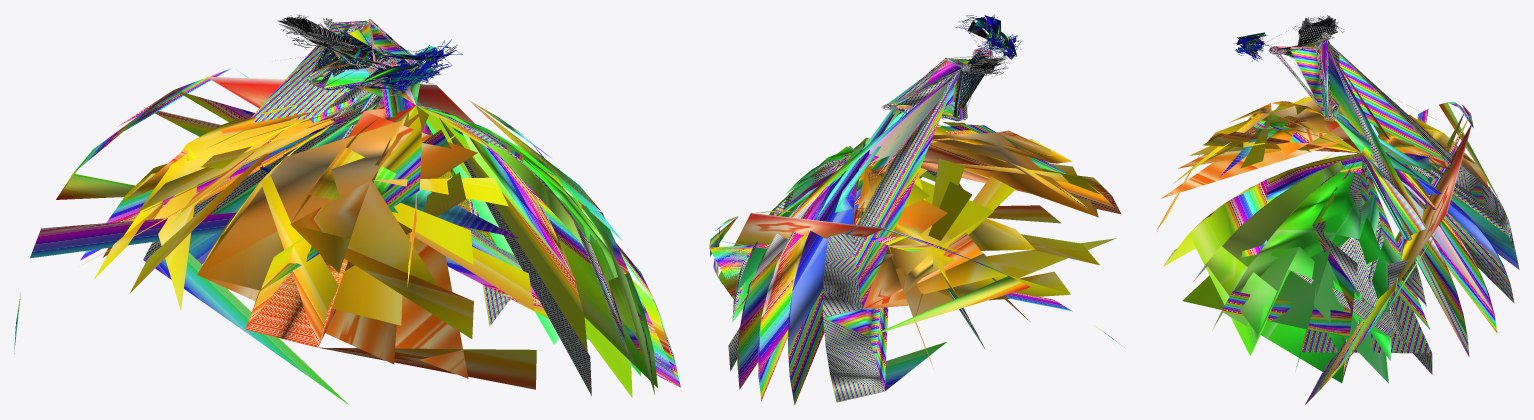
File: RainbowRoad.obj
3 renders of one model, left to right at view 1: azimuth 30°, elevation 25°; view 2: azimuth 150°, elevation 25°; view 3: azimuth 270°, elevation 25°, orthographic. The views are drawn at different scales.
Parts seen in each view (by area): view 1: course; view 2: course; view 3: course.
Part boxes in pixels (x1,y1,x2,y2): course: [14, 14, 680, 404]; course: [709, 14, 1124, 405]; course: [1156, 15, 1519, 404].
Bounding box in the file's own units: 401207 × 282371 × 335419.
Materials: 18 (18 with a texture image).
